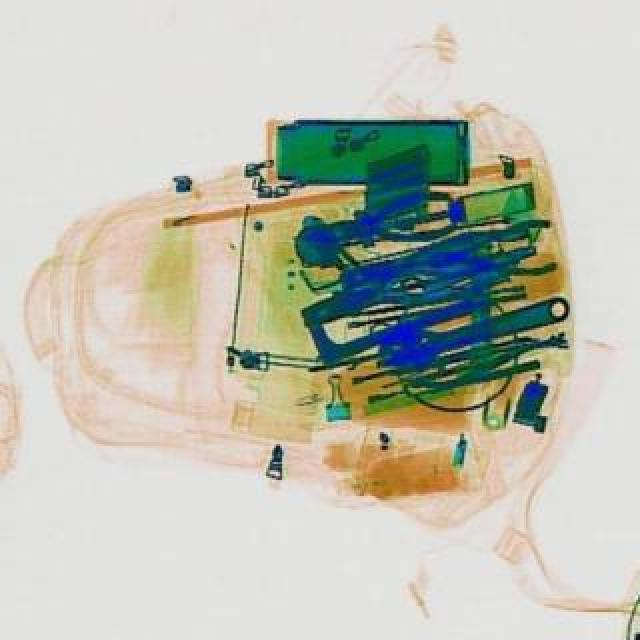scissors: (366, 284, 574, 376)
wrench: (298, 184, 458, 260), (420, 212, 556, 288)
